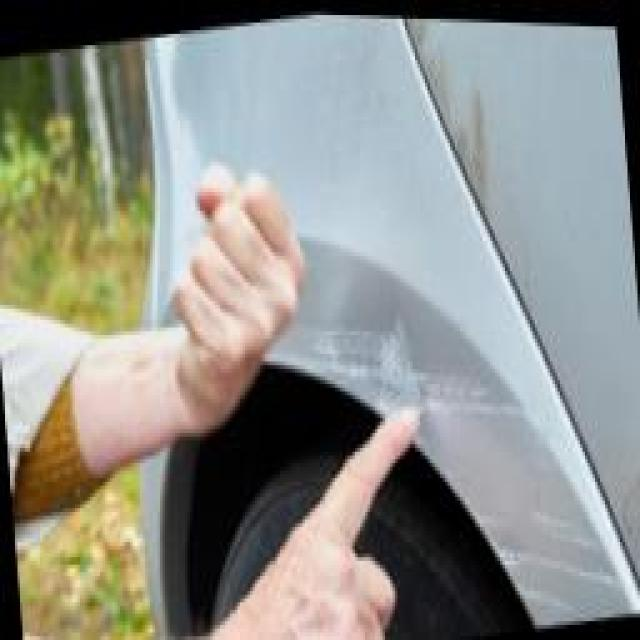Fender: (262, 181, 592, 638)
